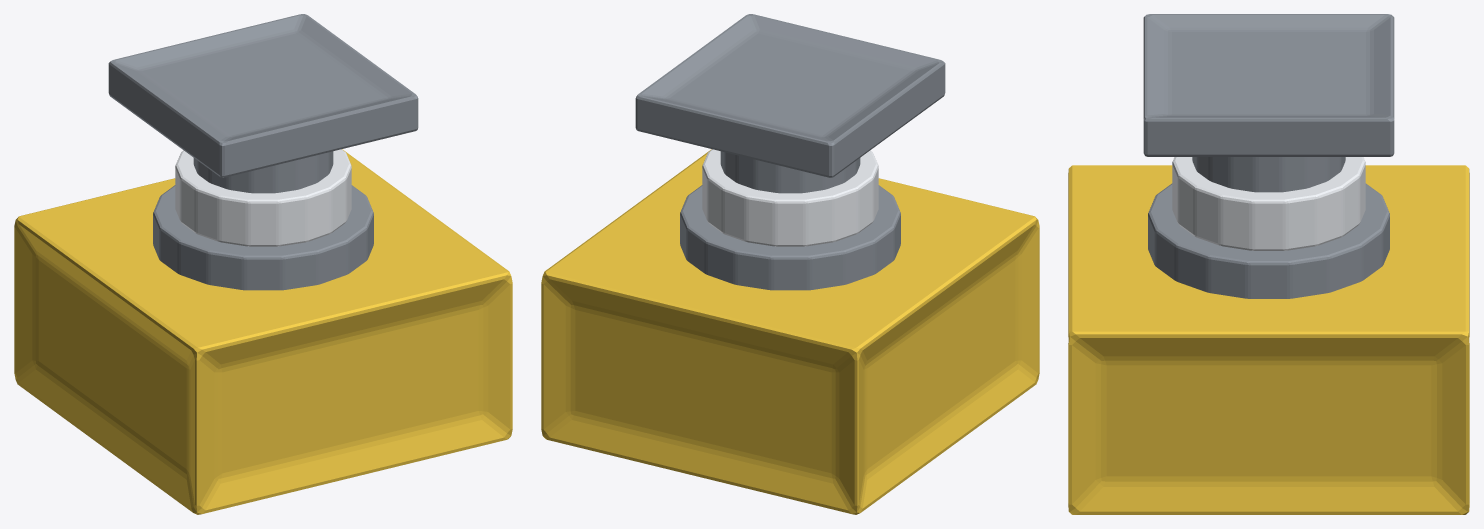
File: piston_long.glb
3 renders of one model, left to right at view 1: azimuth 30°, elevation 25°; view 2: azimuth 150°, elevation 25°; view 3: azimuth 270°, elevation 25°, orthographic. The views are drawn at different scales.
Parts seen in each view (by area): view 1: piston_long; view 2: piston_long; view 3: piston_long.
Part boxes in pixels (x1,y1,x2,y2): piston_long: [14, 14, 512, 514]; piston_long: [541, 14, 1039, 514]; piston_long: [1068, 14, 1469, 514].
Bounding box in the file's own units: 0.9912 × 0.9966 × 0.9912.
